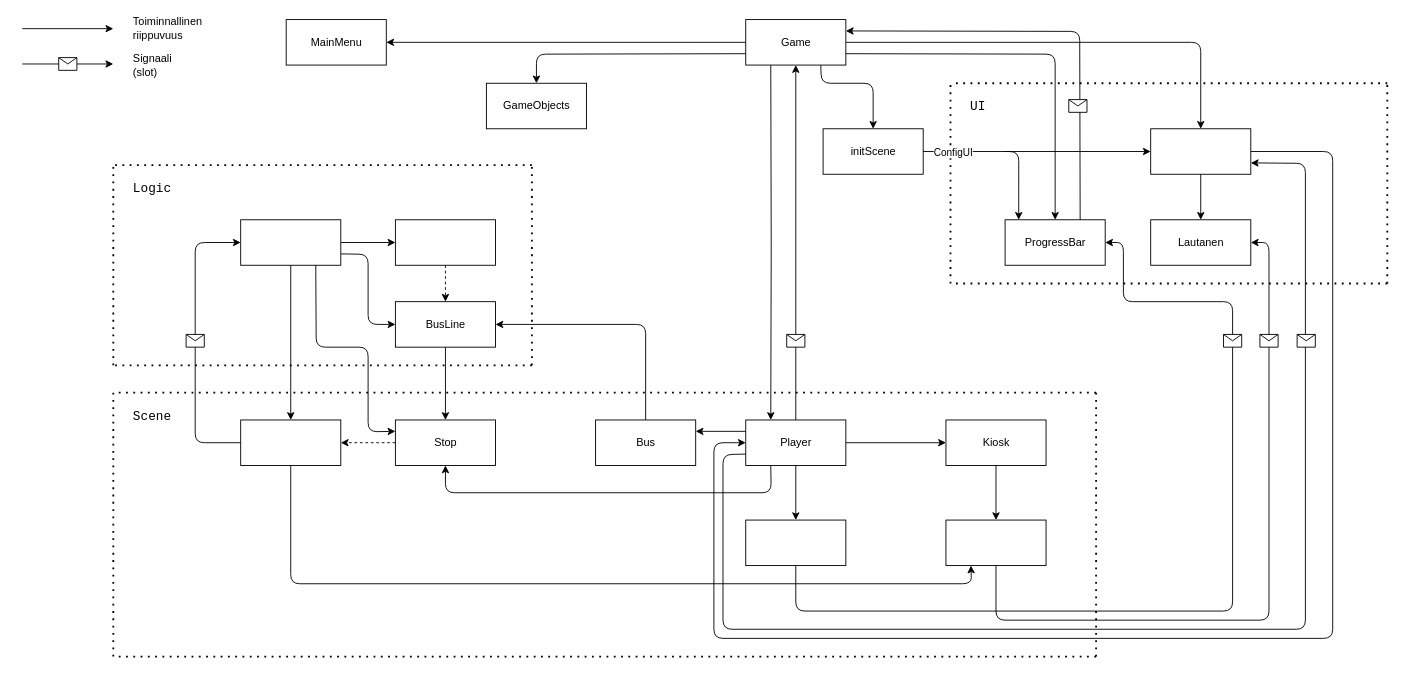
This 1405x674 diagram has some shape labels left out. Here are the shapes that lost their labels. From the top down, the centre of each, then its label:
At (x=1200, y=151): "Lautaset".
At (x=290, y=242): "TeekkariHandler".
At (x=444, y=242): "BusLineHandler".
At (x=290, y=442): "Teekkari".
At (x=795, y=542): "Wallet".
At (x=995, y=542): "Food".
